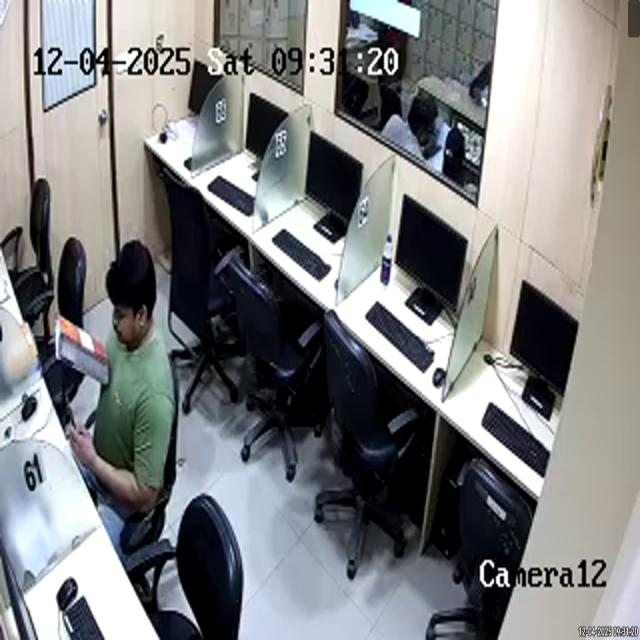phone: (63, 395, 79, 433)
